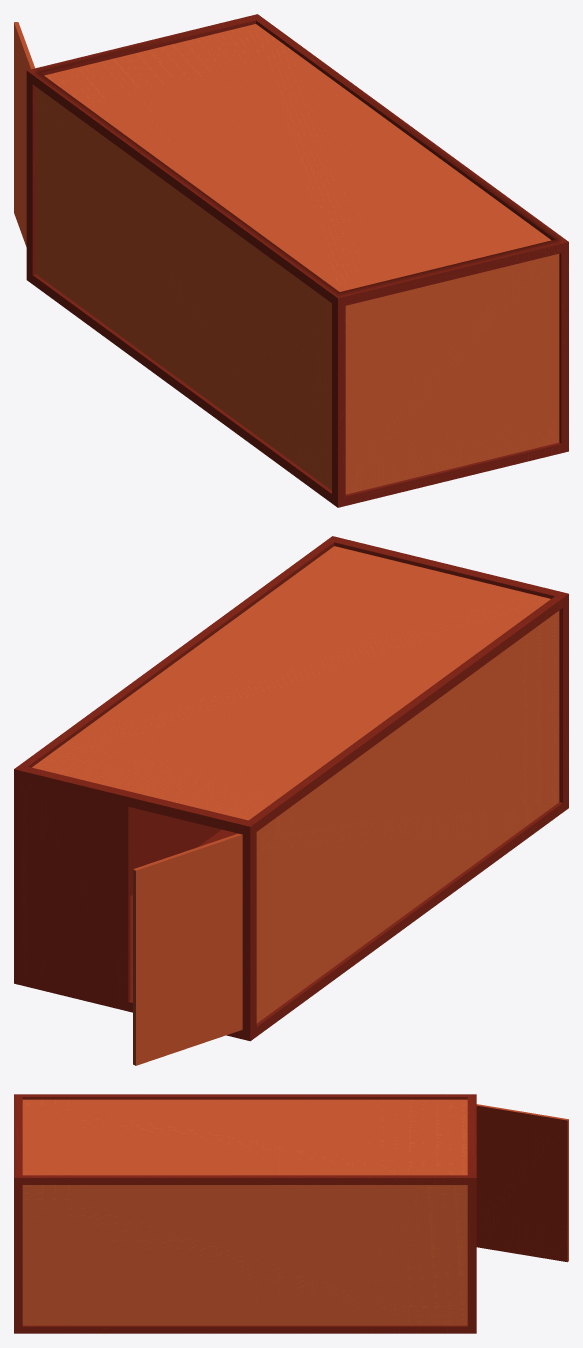
Rendered from container-cargo-white-boxes.glb.
3 views of the same model, one above another, from view 1: azimuth 30°, elevation 25°; view 2: azimuth 150°, elevation 25°; view 3: azimuth 270°, elevation 25° (orthographic). The views are drawn at different scales.
Visible parts, largest first — view 1: Cargo Container White Boxes; view 2: Cargo Container White Boxes; view 3: Cargo Container White Boxes.
Part boxes in pixels (x1,y1,x2,y2): Cargo Container White Boxes: [14, 14, 568, 507]; Cargo Container White Boxes: [14, 536, 568, 1065]; Cargo Container White Boxes: [14, 1094, 568, 1333].
Bounding box in the file's own units: 3 × 2.6 × 8.4.
Materials: 1 (1 with a texture image).
